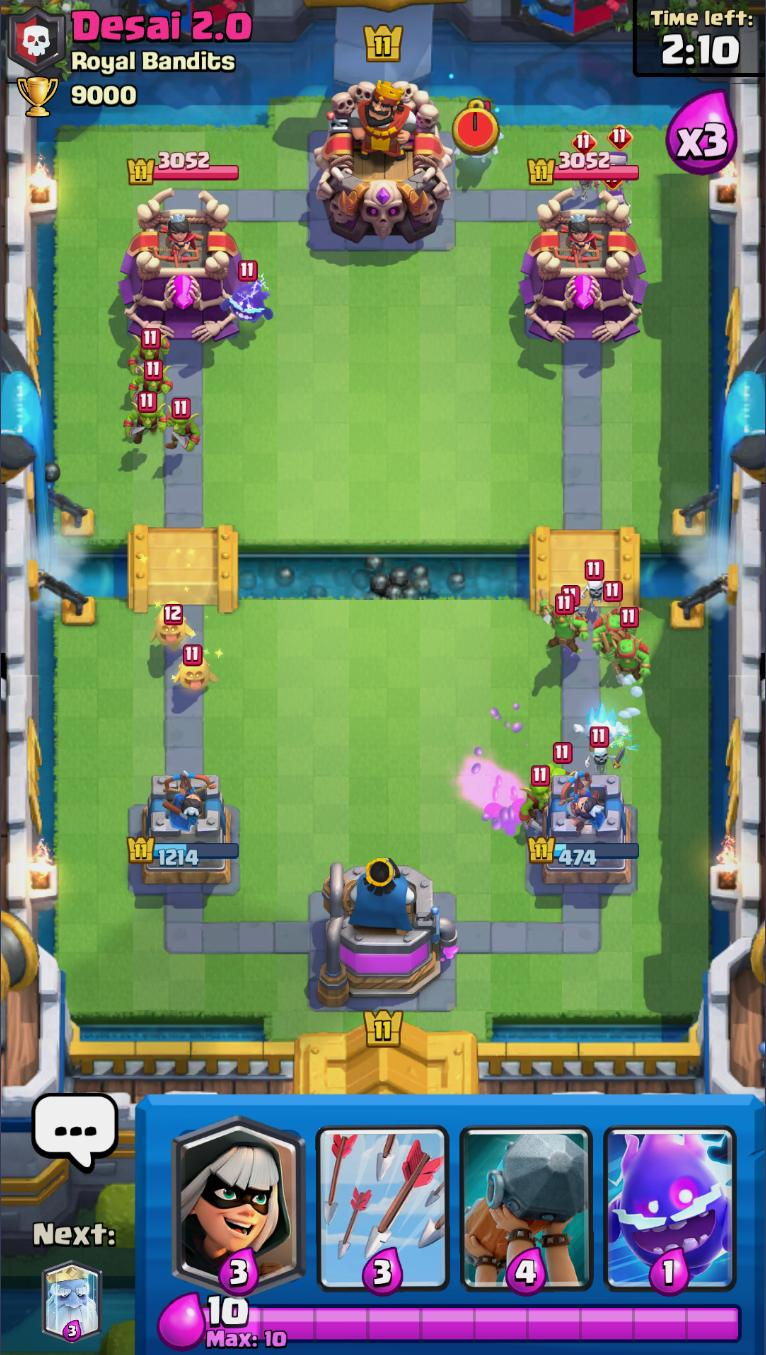ArrowDeck: (308, 1095, 457, 1292)
BanditDeck: (167, 1095, 312, 1295)
BattleRamDeck: (453, 1096, 600, 1293)
ElectroSpirit: (225, 261, 274, 328)
ElectroSpiritDeck: (597, 1096, 744, 1292)
Elixir: (206, 1292, 251, 1330)
EnemyTower: (518, 186, 650, 344), (121, 187, 249, 342)
EvoSkeleton: (600, 128, 638, 194)
Goblin: (161, 398, 201, 459), (125, 395, 169, 450), (520, 766, 554, 829), (130, 330, 169, 378), (130, 363, 176, 400)
HealSpirit: (170, 644, 214, 697), (151, 602, 193, 655)
IceSpirit: (576, 704, 626, 749)
KingTower: (309, 78, 456, 245)
MyKingTower: (314, 860, 460, 1009)
MyPrincessTower: (129, 771, 243, 891), (529, 773, 643, 892)
MyPrincessTowerHP: (529, 834, 641, 869), (127, 837, 240, 865)
PrincessTower: (552, 208, 607, 265), (153, 213, 205, 267)
RoyaleGhostNext: (41, 1255, 103, 1344)
Skeleton: (578, 560, 611, 614), (584, 730, 624, 774)
SpearGoblin: (606, 609, 651, 686), (539, 594, 589, 660), (592, 583, 630, 656)
TowerPrincessHP: (126, 151, 240, 186), (529, 151, 641, 186)
